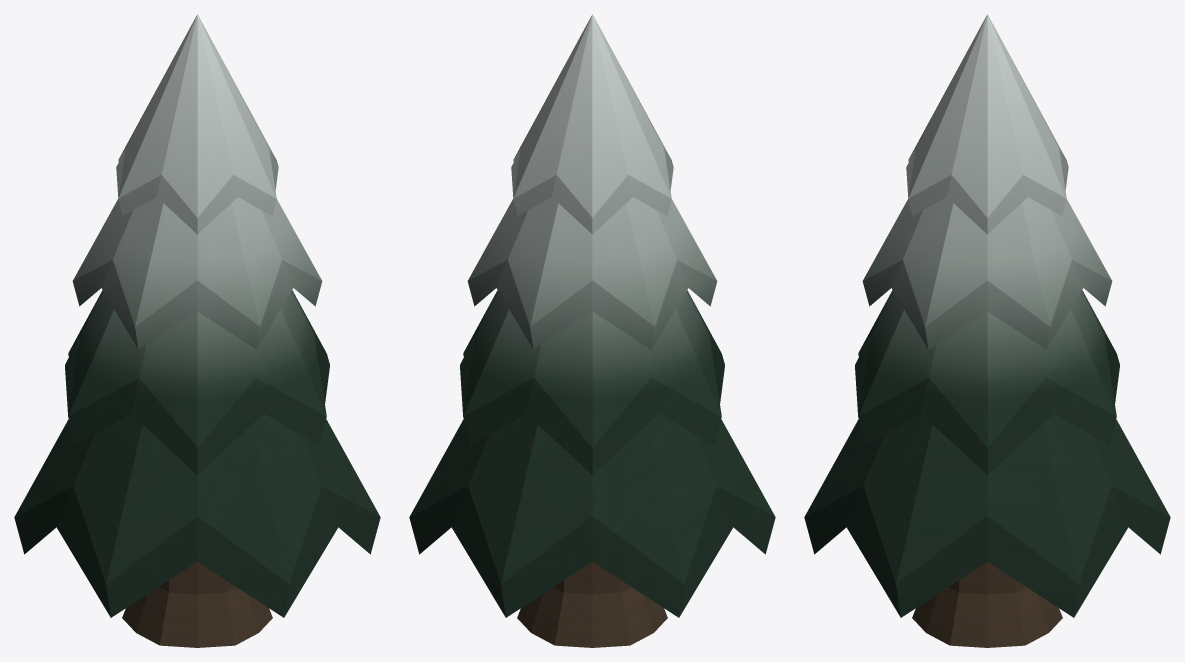
File: Tree_pine_A_snow.obj
3 views of the same model, side by side, from view 1: azimuth 30°, elevation 25°; view 2: azimuth 150°, elevation 25°; view 3: azimuth 270°, elevation 25° (orthographic).
Visible parts, largest first — view 1: Tree_pine_A_snow; view 2: Tree_pine_A_snow; view 3: Tree_pine_A_snow.
Boxes of the visible parts, x1=… form: Tree_pine_A_snow: x1=14, y1=14, x2=380, y2=647; Tree_pine_A_snow: x1=409, y1=14, x2=775, y2=647; Tree_pine_A_snow: x1=804, y1=14, x2=1170, y2=647.
Size of the model in its own units: 4.28 by 8.77 by 4.82.
